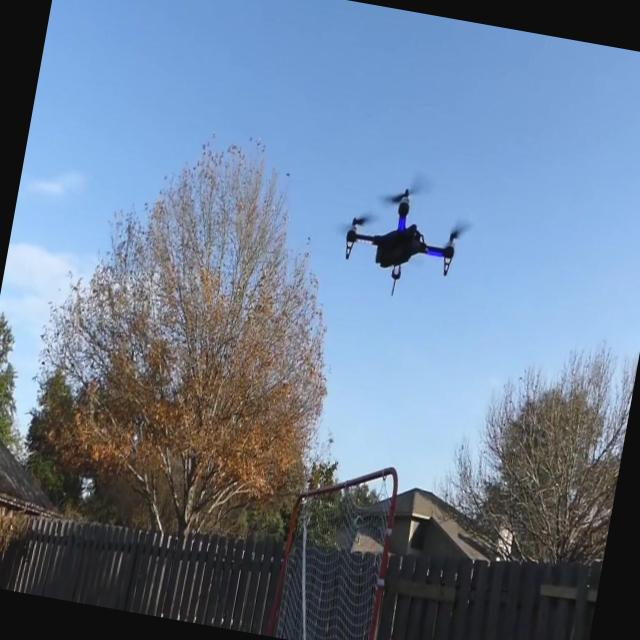drone: (336, 178, 466, 306)
